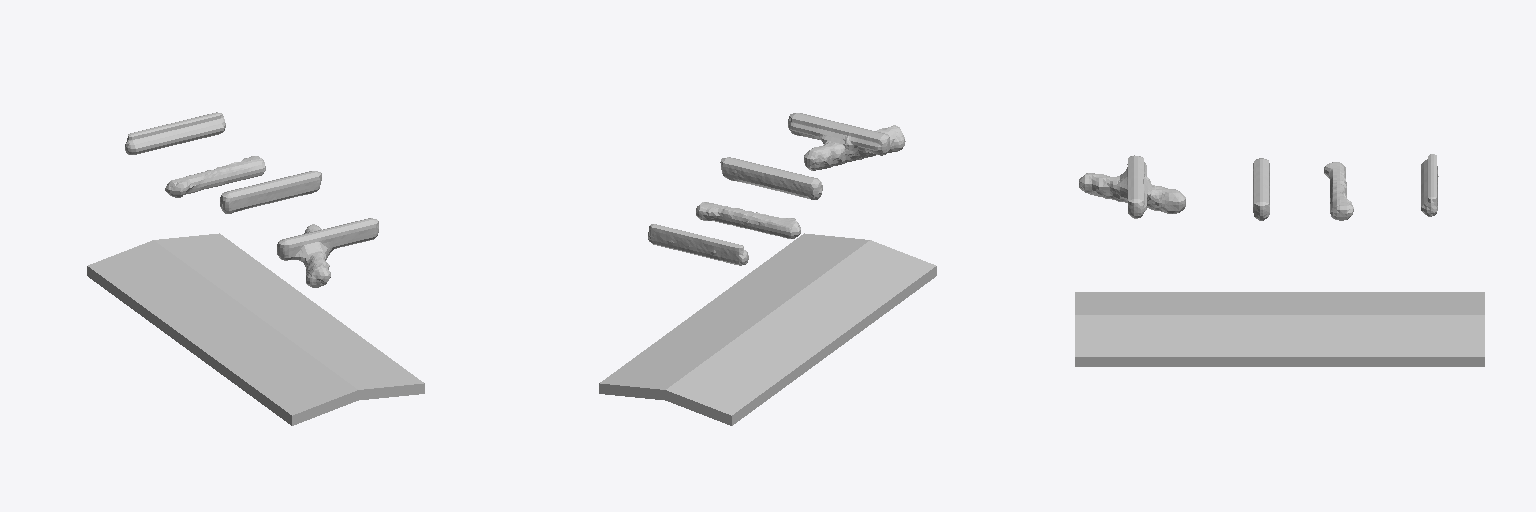
Rendered from Watersim_000005.obj.
3 views of the same model, side by side, from view 1: azimuth 30°, elevation 25°; view 2: azimuth 150°, elevation 25°; view 3: azimuth 270°, elevation 25° (orthographic).
Parts seen in each view (by area): view 1: Straße_Cube.007, Domain_Cube.006; view 2: Straße_Cube.007, Domain_Cube.006; view 3: Straße_Cube.007, Domain_Cube.006.
Part boxes in pixels (bbox=[...]): Straße_Cube.007: bbox=[87, 233, 424, 425]; Domain_Cube.006: bbox=[125, 112, 378, 287]; Straße_Cube.007: bbox=[599, 233, 936, 425]; Domain_Cube.006: bbox=[648, 113, 905, 265]; Straße_Cube.007: bbox=[1075, 292, 1484, 366]; Domain_Cube.006: bbox=[1079, 154, 1438, 220].
Bounding box in the file's own units: 2.26 × 2.58 × 6.06.